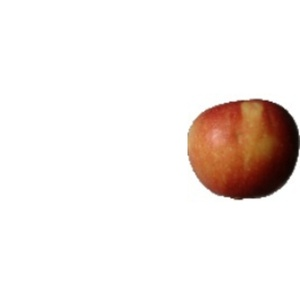maçã braeburn: (183, 97, 300, 204)
